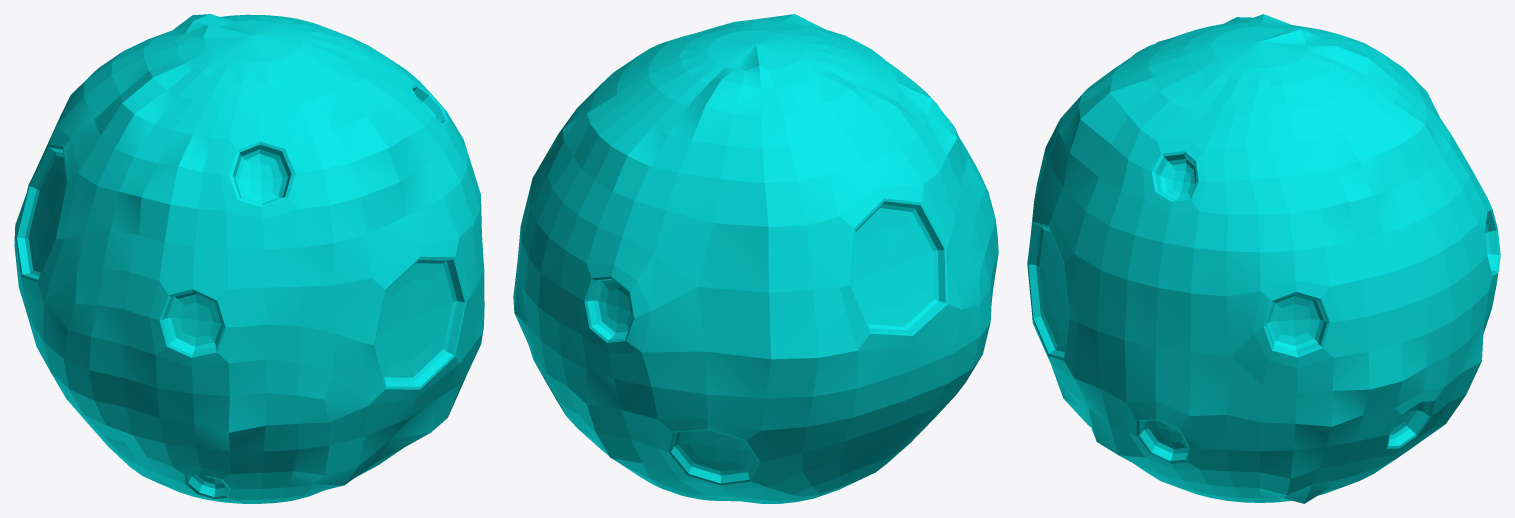
Rendered from Planet_Moon.fbx.
3 renders of one model, left to right at view 1: azimuth 30°, elevation 25°; view 2: azimuth 150°, elevation 25°; view 3: azimuth 270°, elevation 25°, orthographic.
Visible parts, largest first — view 1: Moon; view 2: Moon; view 3: Moon.
Part boxes in pixels (x1,y1,x2,y2): Moon: (14,14,484,503); Moon: (513,14,998,503); Moon: (1027,14,1500,503).
Size of the model in its own units: 1154 by 1193 by 1158.
